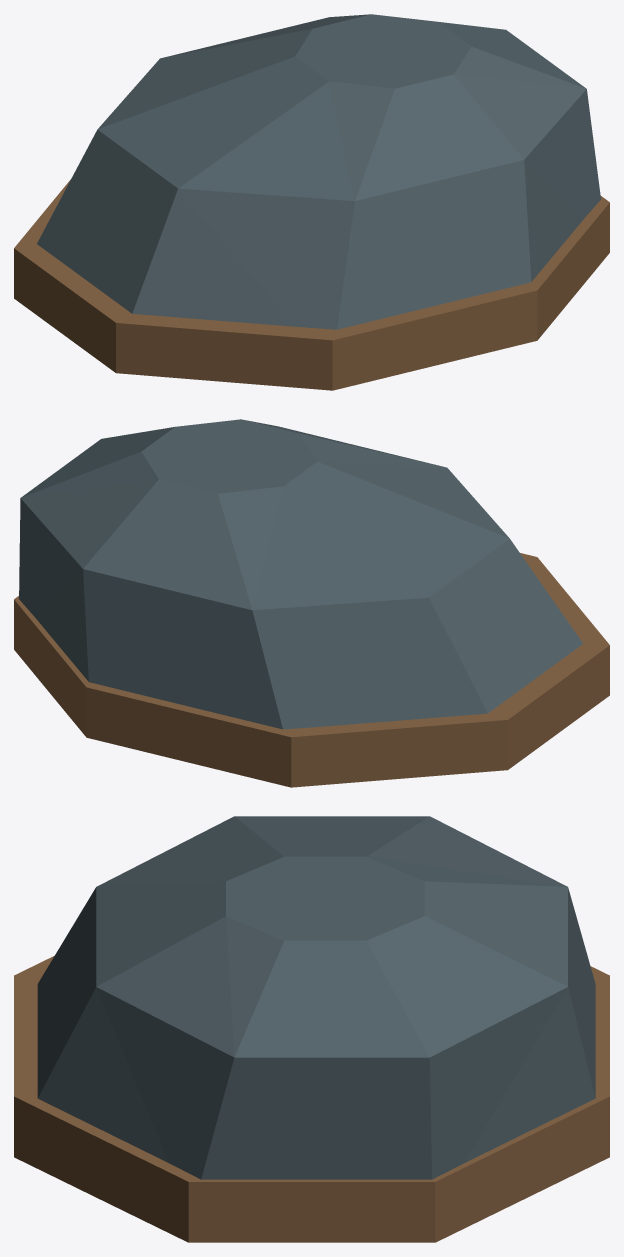
File: NPC_Headwear_02_Cap.glb
3 views of the same model, one above another, from view 1: azimuth 30°, elevation 25°; view 2: azimuth 150°, elevation 25°; view 3: azimuth 270°, elevation 25° (orthographic). The views are drawn at different scales.
Visible parts, largest first — view 1: NPC_Headwear_02_Cap; view 2: NPC_Headwear_02_Cap; view 3: NPC_Headwear_02_Cap.
Boxes of the visible parts, x1,y1,x2,y2 form: NPC_Headwear_02_Cap: (14, 14, 609, 390); NPC_Headwear_02_Cap: (14, 419, 609, 787); NPC_Headwear_02_Cap: (14, 816, 609, 1242).
Bounding box in the file's own units: 0.5137 × 0.2 × 0.4435.
